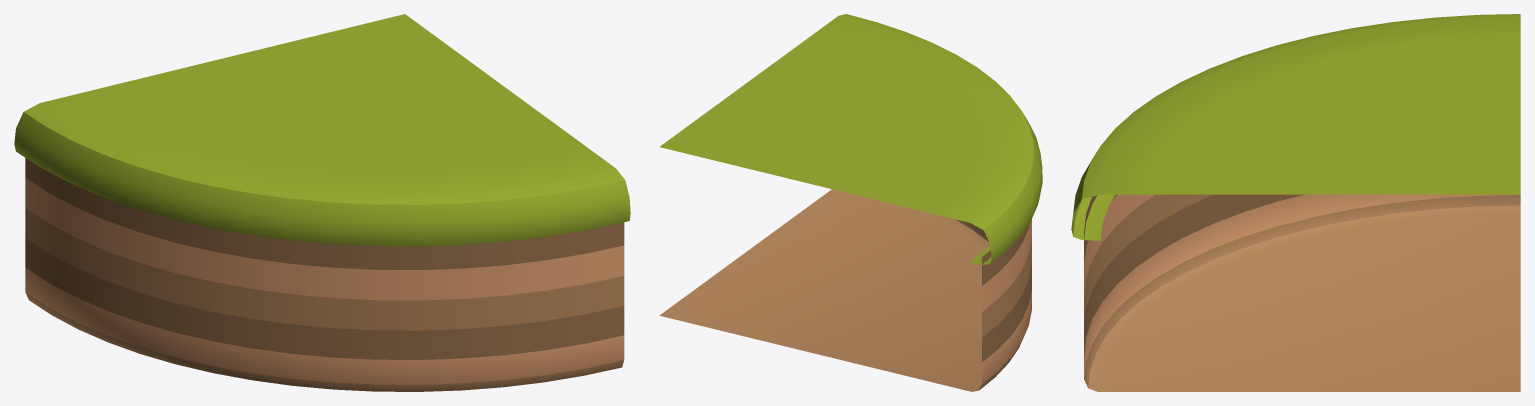
Rendered from platform_grass_corner_round2.gltf.
3 views of the same model, side by side, from view 1: azimuth 30°, elevation 25°; view 2: azimuth 150°, elevation 25°; view 3: azimuth 270°, elevation 25° (orthographic). The views are drawn at different scales.
Parts seen in each view (by area): view 1: Cube_Grass_Corner_Round2; view 2: Cube_Grass_Corner_Round2; view 3: Cube_Grass_Corner_Round2.
Part boxes in pixels (box(x1,y1,x2,y2)): Cube_Grass_Corner_Round2: box(14, 14, 630, 391); Cube_Grass_Corner_Round2: box(659, 14, 1042, 391); Cube_Grass_Corner_Round2: box(1071, 14, 1520, 391).
Bounding box in the file's own units: 4.12 × 2 × 4.12.
